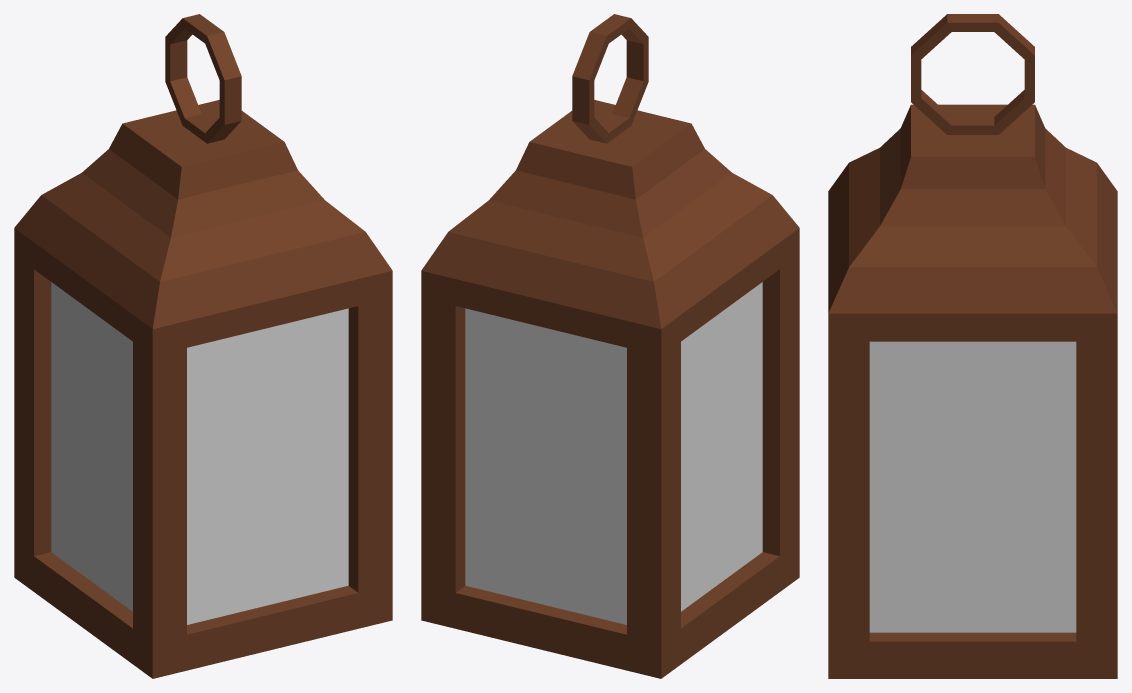
The model's file is lantern.fbx.
The picture shows the model from 3 angles, left to right: view 1: azimuth 30°, elevation 25°; view 2: azimuth 150°, elevation 25°; view 3: azimuth 270°, elevation 25°; orthographic projection. The views are drawn at different scales.
Visible parts, largest first — view 1: Lantern_Parent, cuboid; view 2: Lantern_Parent, cuboid; view 3: Lantern_Parent, cuboid.
Part boxes in pixels (<box>): Lantern_Parent: <box>14,14,392,678</box>; cuboid: <box>51,282,348,624</box>; Lantern_Parent: <box>421,14,799,678</box>; cuboid: <box>465,282,762,624</box>; Lantern_Parent: <box>828,14,1117,678</box>; cuboid: <box>869,341,1076,632</box>.
Bounding box in the file's own units: 43.75 × 100 × 43.75.
Materials: 1 (1 with a texture image).
